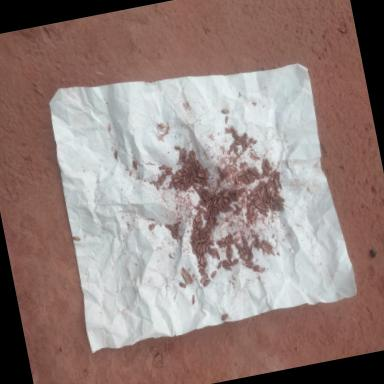pbw: (204, 216, 214, 227), (263, 240, 273, 250), (158, 174, 166, 186), (216, 259, 225, 269), (193, 151, 199, 165), (233, 130, 241, 140), (148, 223, 158, 231), (216, 204, 226, 212), (231, 124, 239, 134), (161, 162, 171, 170), (220, 313, 230, 321), (225, 248, 233, 258), (210, 270, 220, 278), (209, 206, 215, 219), (192, 218, 198, 229), (246, 258, 254, 266), (179, 148, 187, 156), (250, 238, 258, 246), (250, 214, 258, 222), (254, 198, 262, 206), (179, 281, 187, 289), (176, 154, 184, 162), (224, 189, 231, 198), (164, 166, 174, 172), (196, 188, 202, 198), (190, 294, 196, 304), (236, 170, 246, 176), (276, 170, 282, 180), (198, 245, 204, 255), (202, 280, 212, 286), (164, 170, 174, 176), (268, 198, 274, 208), (196, 166, 203, 174), (176, 170, 184, 177), (182, 166, 189, 174), (217, 196, 224, 204), (210, 198, 218, 205), (196, 221, 204, 228), (260, 186, 266, 195), (226, 235, 232, 244), (187, 150, 193, 159), (158, 172, 163, 182), (278, 180, 283, 190), (274, 176, 279, 186), (204, 237, 211, 244), (206, 231, 213, 238), (225, 127, 232, 134), (200, 272, 208, 278), (208, 241, 216, 247), (222, 202, 228, 210), (252, 232, 260, 238), (258, 266, 266, 272), (72, 236, 80, 242), (269, 189, 275, 197), (236, 140, 244, 146), (174, 145, 182, 151), (248, 138, 254, 146), (256, 190, 262, 198), (226, 258, 232, 266), (198, 173, 206, 179), (232, 238, 240, 244), (198, 268, 206, 274), (239, 253, 247, 259), (270, 248, 276, 256), (216, 250, 220, 261), (246, 202, 252, 209), (198, 263, 204, 270), (175, 220, 182, 226), (188, 158, 195, 164), (246, 263, 253, 269), (242, 247, 248, 254), (242, 256, 249, 262), (222, 108, 229, 114), (253, 267, 260, 273), (193, 176, 200, 182), (156, 180, 160, 190), (183, 150, 188, 158), (200, 254, 204, 264), (225, 116, 230, 124), (196, 244, 201, 252), (249, 246, 254, 254), (175, 173, 183, 178), (195, 218, 203, 223), (172, 178, 180, 183), (202, 244, 206, 253), (179, 160, 185, 166), (245, 138, 249, 147), (234, 175, 238, 184), (215, 194, 221, 200), (182, 158, 188, 164), (248, 205, 253, 212), (195, 214, 202, 219), (182, 176, 186, 184), (200, 238, 208, 242), (198, 254, 202, 262), (189, 176, 193, 184), (262, 170, 266, 178), (162, 170, 166, 178), (203, 212, 211, 216), (216, 240, 224, 244), (235, 150, 240, 156), (192, 246, 196, 253), (229, 156, 233, 163), (192, 242, 196, 249), (176, 235, 180, 242), (202, 179, 205, 187), (271, 182, 275, 188), (272, 210, 276, 216), (267, 188, 270, 196), (196, 240, 202, 244), (196, 252, 200, 258), (188, 188, 194, 192), (200, 182, 204, 188), (186, 182, 192, 186), (253, 140, 258, 144), (224, 198, 229, 202), (254, 265, 260, 268), (206, 170, 208, 178), (218, 210, 220, 214)
